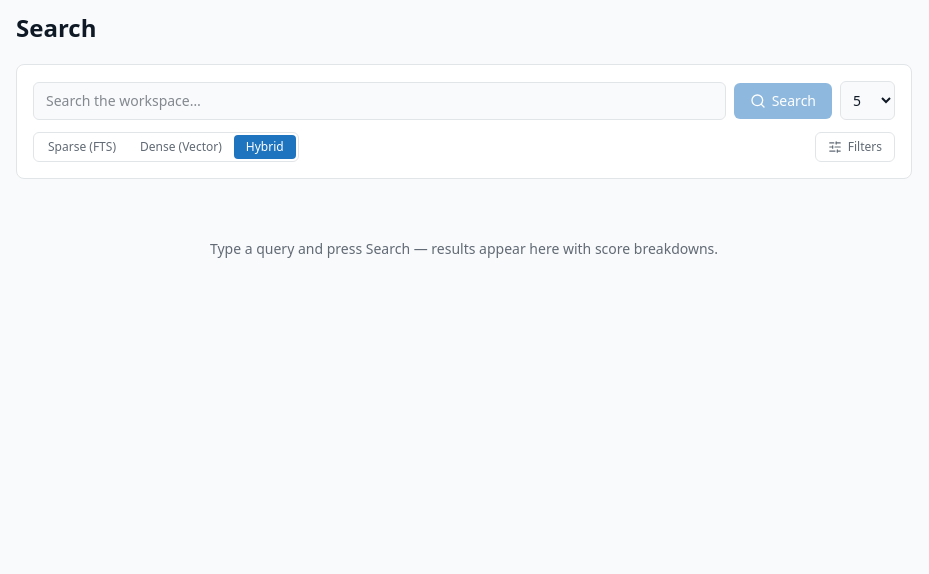
Test: SearchPage › opens filter panel and toggles spatial picker
What coordinates should you click on to do the following:
click the button with test id "filters-toggle"
I would click on:
 (855, 147)
Its box is [815,132,895,162].
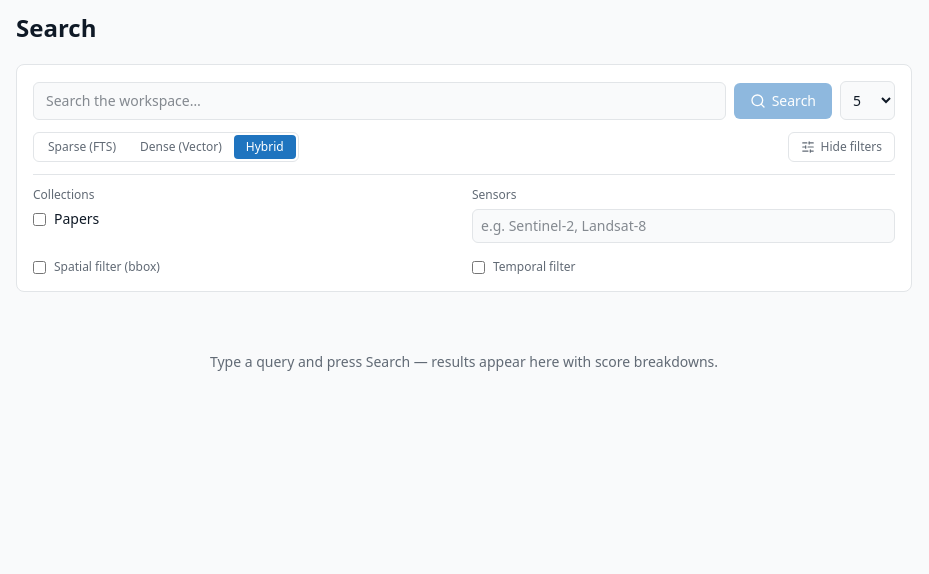
expect the element with test id "filter-panel" is shown: met, box [33,174,895,275]
What coordinates should you click on to do the following:
click the checkbox with test id "spatial-toggle"
I would click on:
 (40, 267)
Its box is [33,260,46,274].
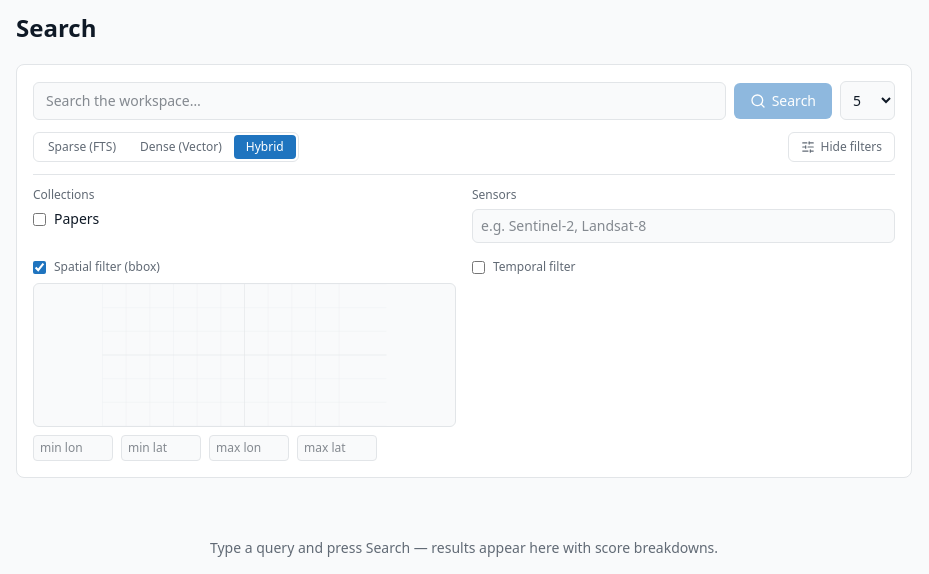
expect the icon with test id "bbox-picker" is shown: met, box [33,283,456,427]
